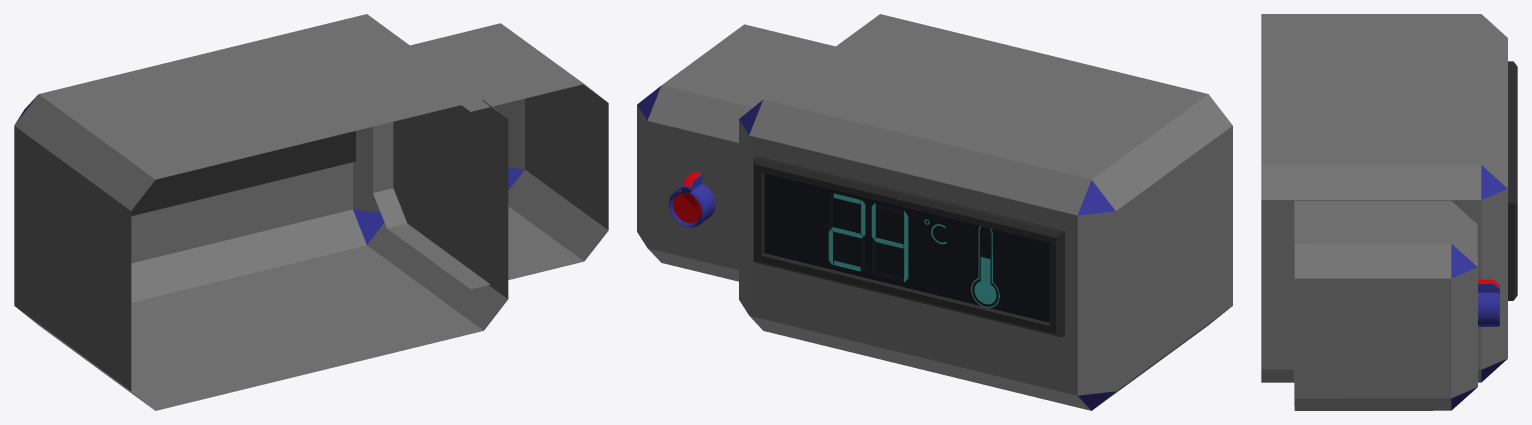
File: Thermostat.fbx
3 views of the same model, side by side, from view 1: azimuth 30°, elevation 25°; view 2: azimuth 150°, elevation 25°; view 3: azimuth 270°, elevation 25° (orthographic). The views are drawn at different scales.
Parts seen in each view (by area): view 1: Termostat; view 2: Termostat, Themo Screen, Dial; view 3: Termostat, Dial.
Boxes of the visible parts, x1,y1,x2,y2 form: Termostat: (14, 14, 608, 410); Termostat: (637, 14, 1232, 410); Themo Screen: (764, 173, 1049, 322); Dial: (669, 172, 715, 227); Termostat: (1261, 14, 1517, 410); Dial: (1478, 279, 1499, 326).
Size of the model in its own units: 84.07 by 37.51 by 40.05.
